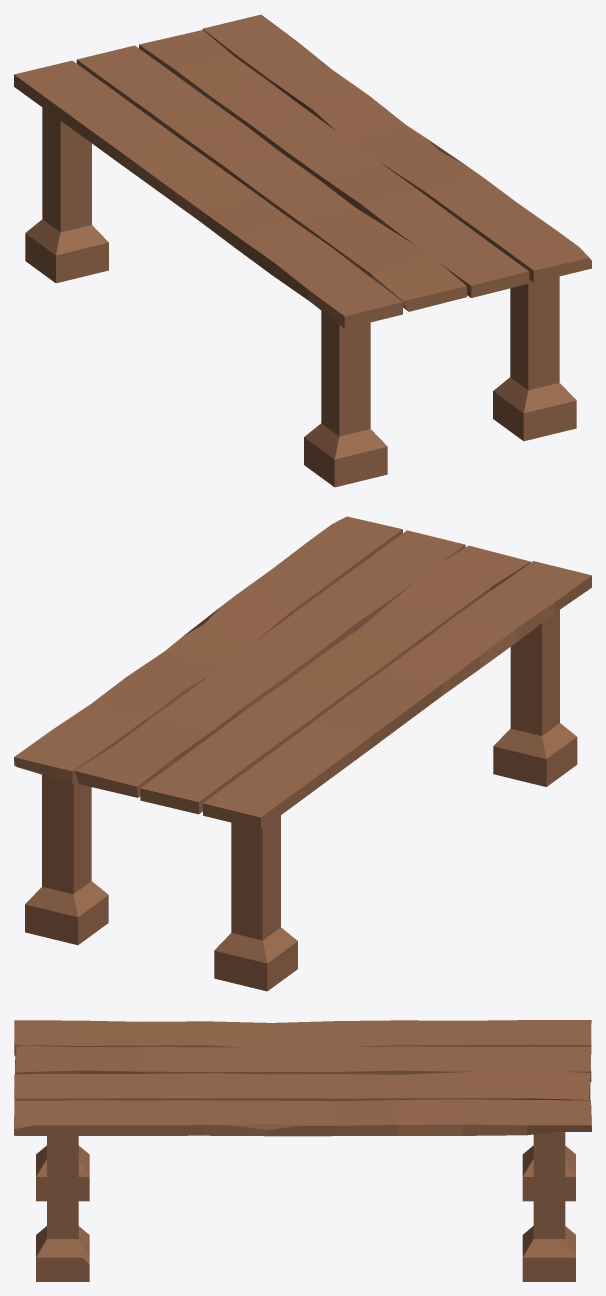
File: table.fbx
The picture shows the model from 3 angles, top to bottom: view 1: azimuth 30°, elevation 25°; view 2: azimuth 150°, elevation 25°; view 3: azimuth 270°, elevation 25°; orthographic projection. The views are drawn at different scales.
Parts seen in each view (by area): view 1: Cube; view 2: Cube; view 3: Cube.
Part boxes in pixels (x1=…): Cube: x1=14, y1=14, x2=591, y2=487; Cube: x1=14, y1=516, x2=591, y2=991; Cube: x1=14, y1=1020, x2=591, y2=1281.
Bounding box in the file's own units: 34.8 × 24.71 × 80.79.
